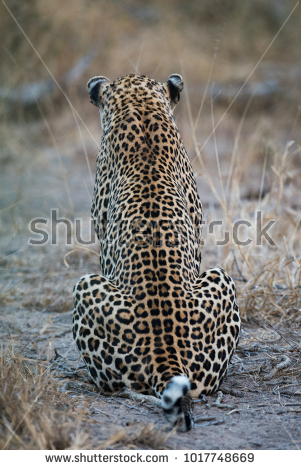leopard: (70, 75, 239, 420)
